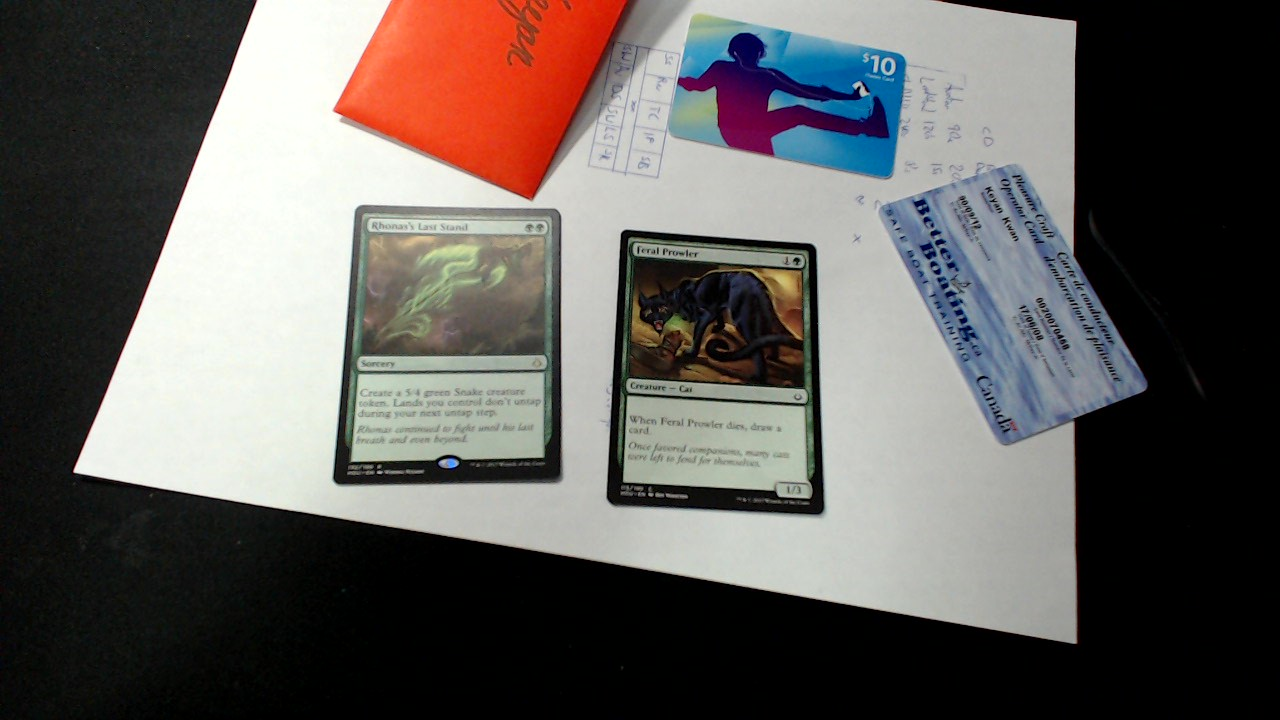MTG Card: (324, 203, 574, 489), (603, 222, 837, 520)
